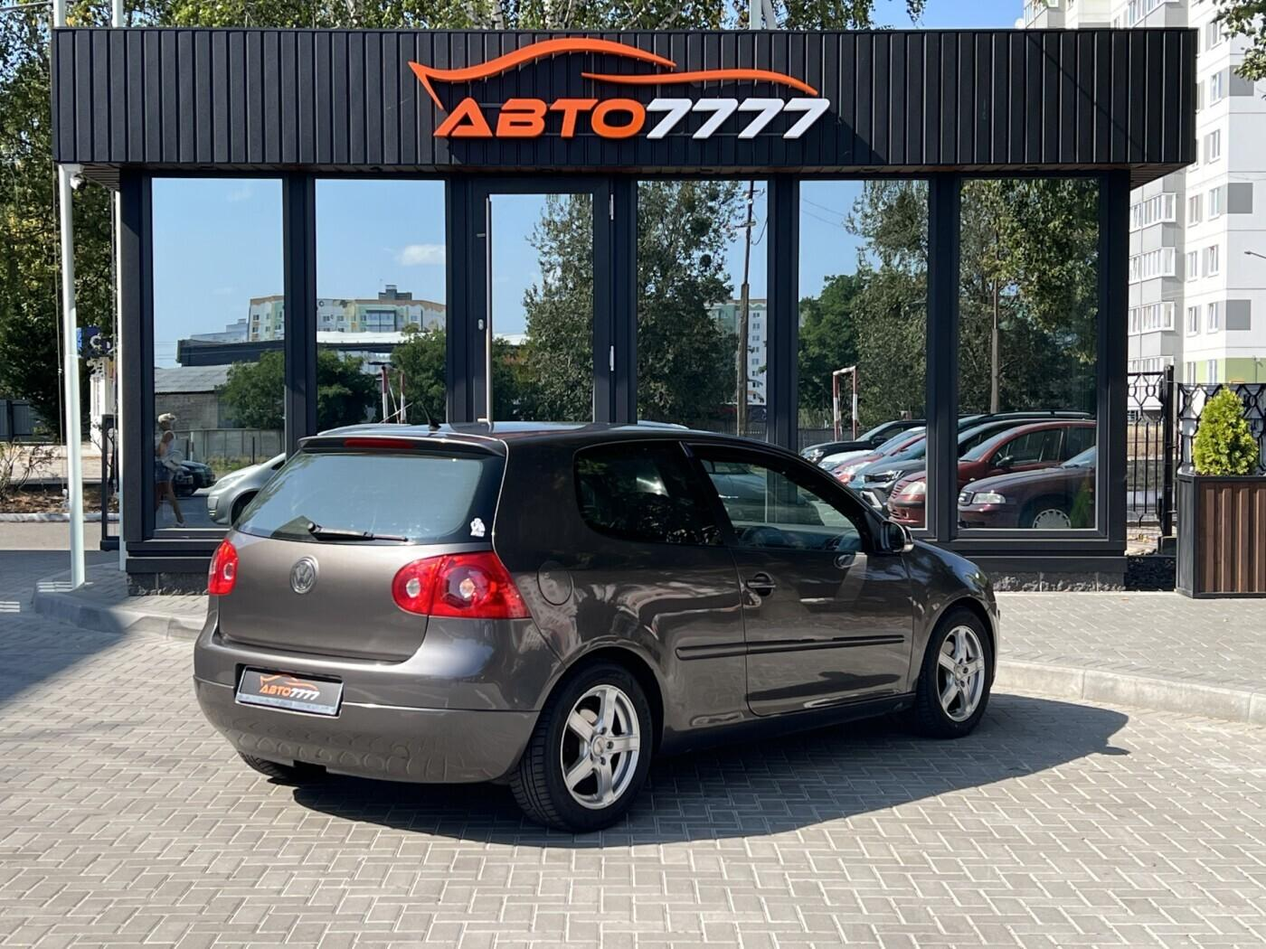Golf_2003-2009: (184, 422, 1001, 825)
